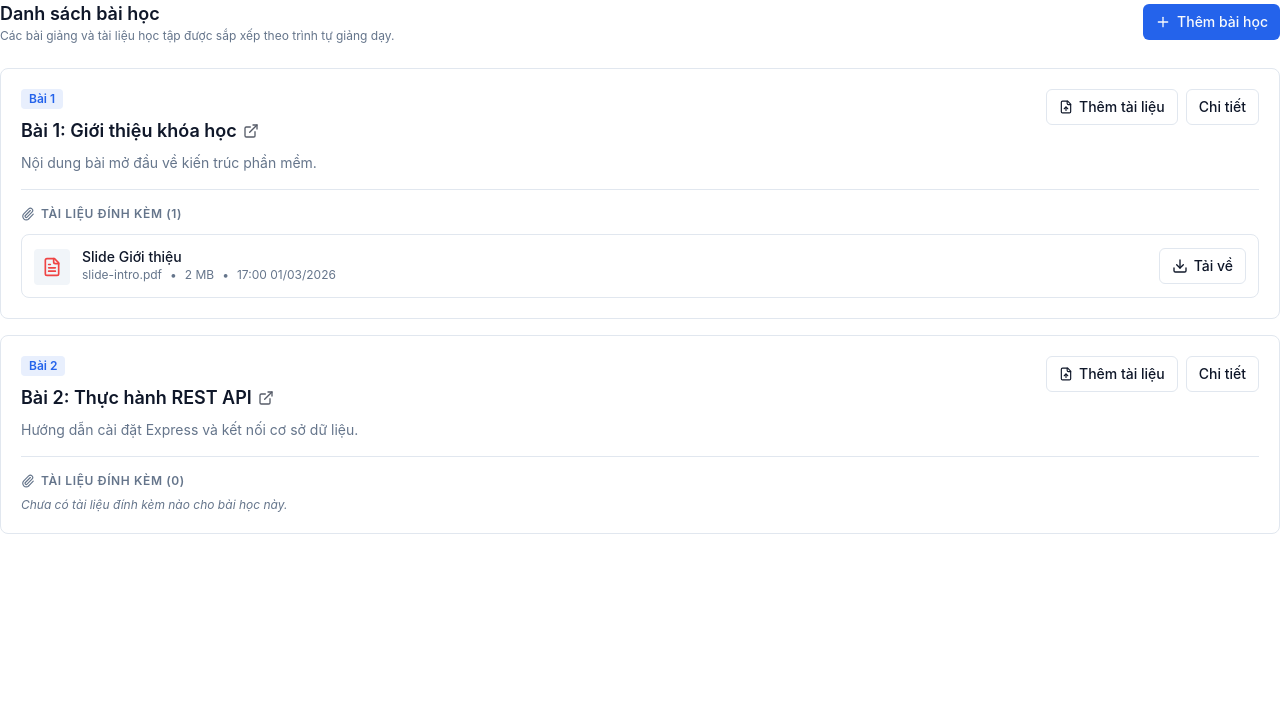
Scenario: LessonTab (US-05, US-06) › handles HTTP errors (401, 403, 409, 422) when creating a lesson
This screenshot has width=1280, height=720.
Check: the text "Bài 1: Giới thiệu khóa học" is shown, box x1=21 y1=117 x2=237 y2=145
Click the button "Thêm bài học" at [1212, 22], box x1=1143 y1=4 x2=1279 y2=40
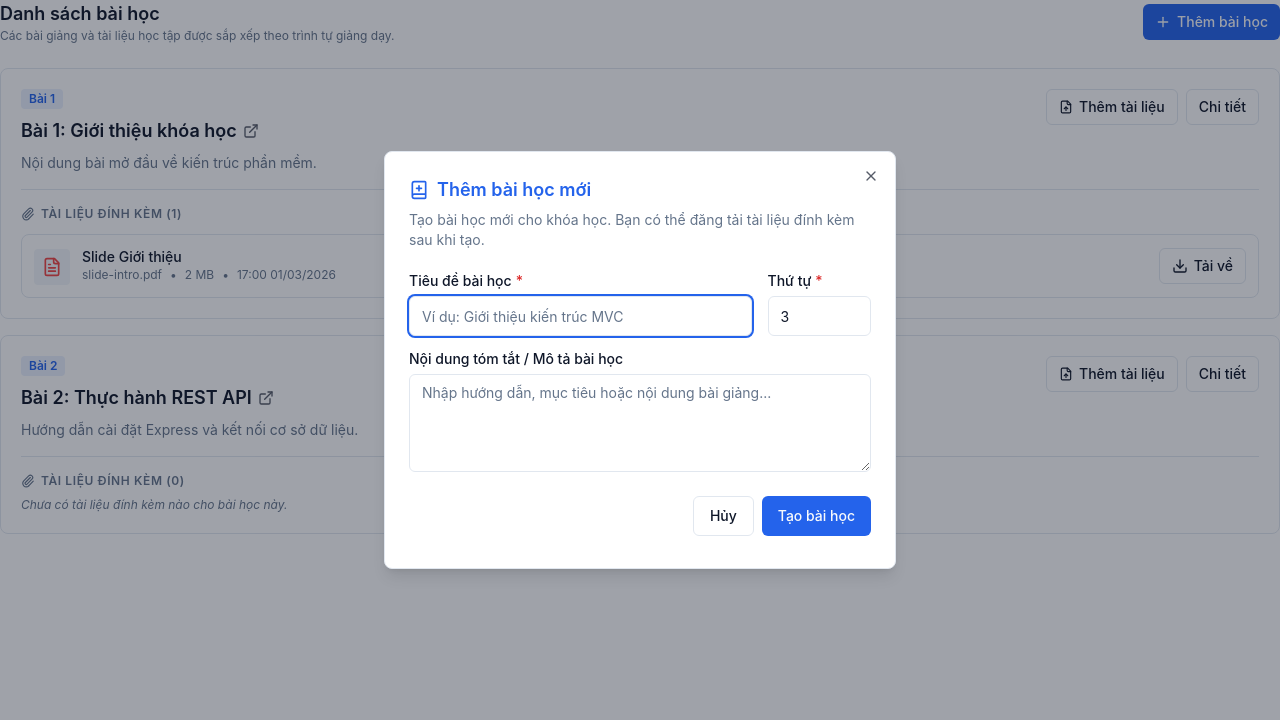
Type "Bài mới" into the field labelled "Tiêu đề bài học*" at [580, 316], box x1=409 y1=296 x2=752 y2=336
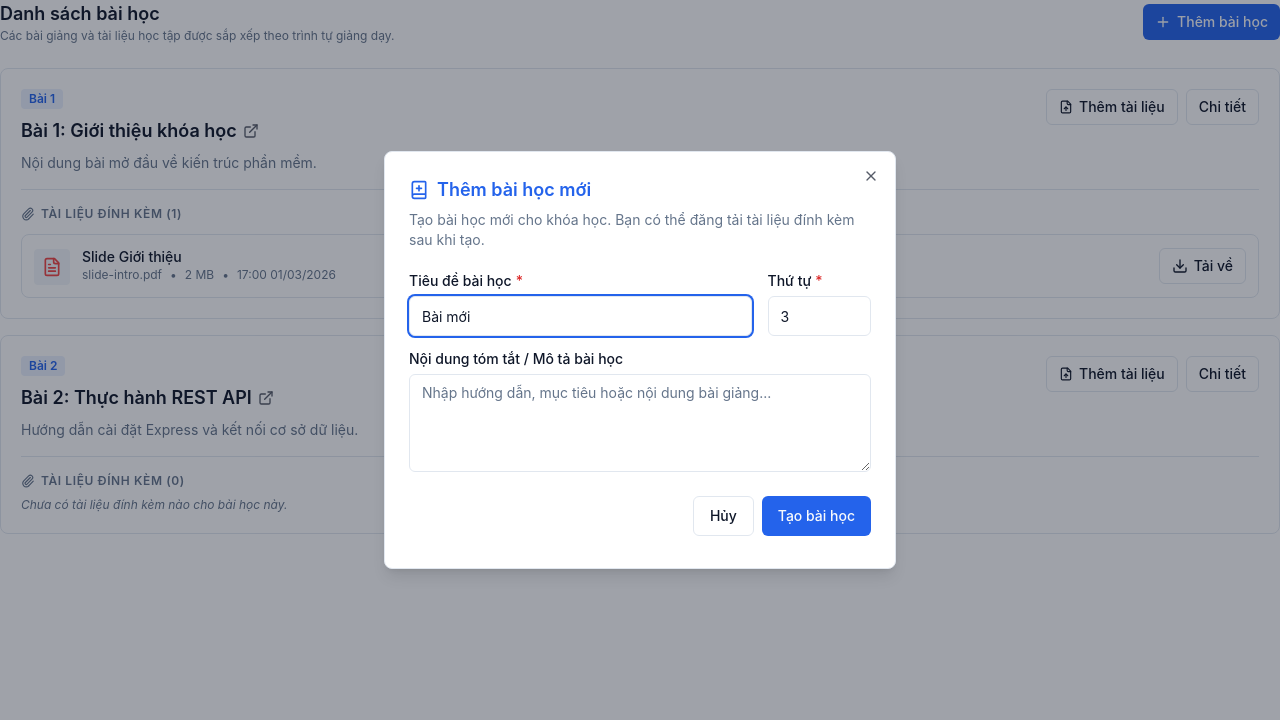
Click the button "Tạo bài học" at [816, 516], box x1=762 y1=496 x2=871 y2=536
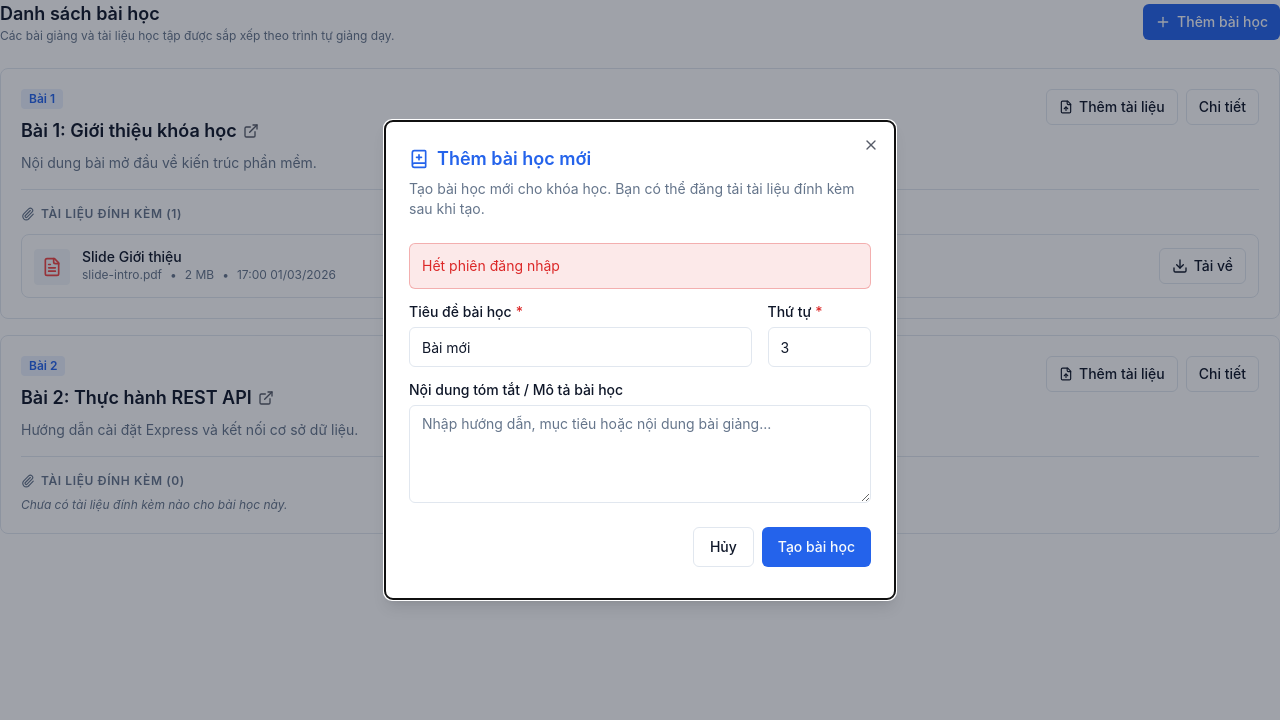
Check: the text "Hết phiên đăng nhập" is shown, box x1=409 y1=243 x2=871 y2=289
Click the button "Tạo bài học" at [816, 547], box x1=762 y1=527 x2=871 y2=567
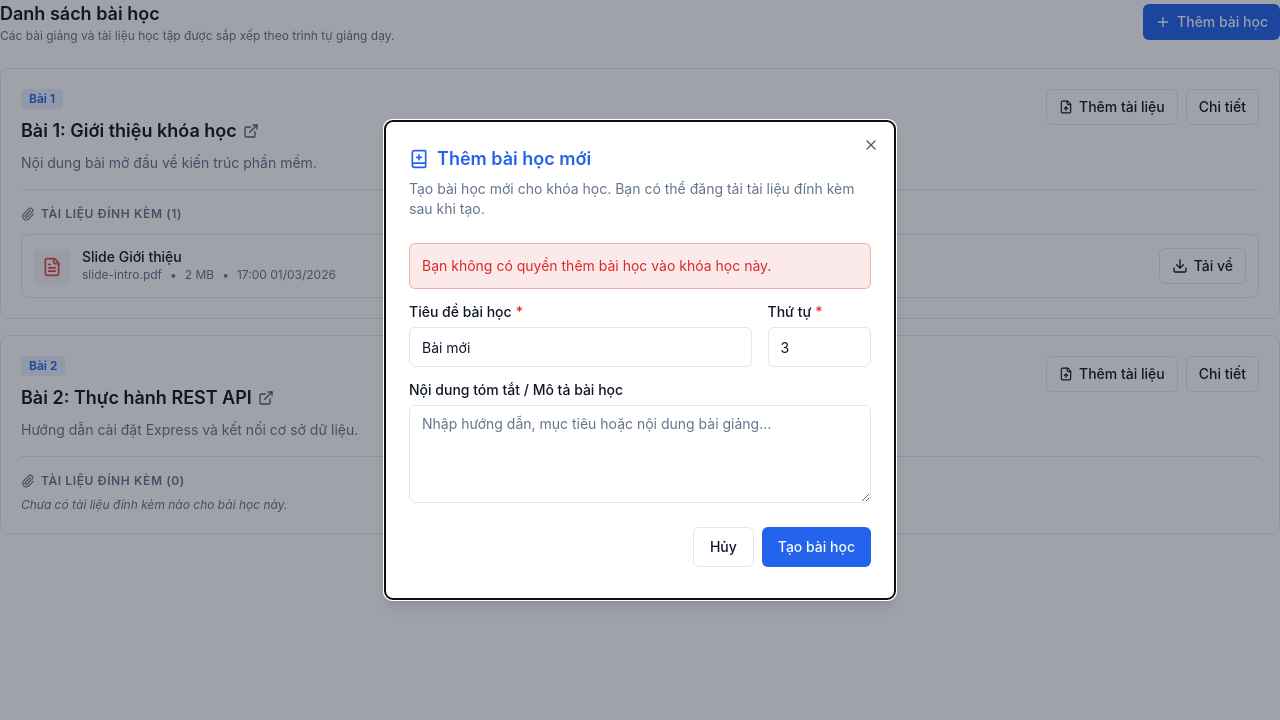
Check: the text "Bạn không có quyền thêm bài học vào khóa học này." is shown, box x1=409 y1=243 x2=871 y2=289
Click the button "Tạo bài học" at [816, 547], box x1=762 y1=527 x2=871 y2=567
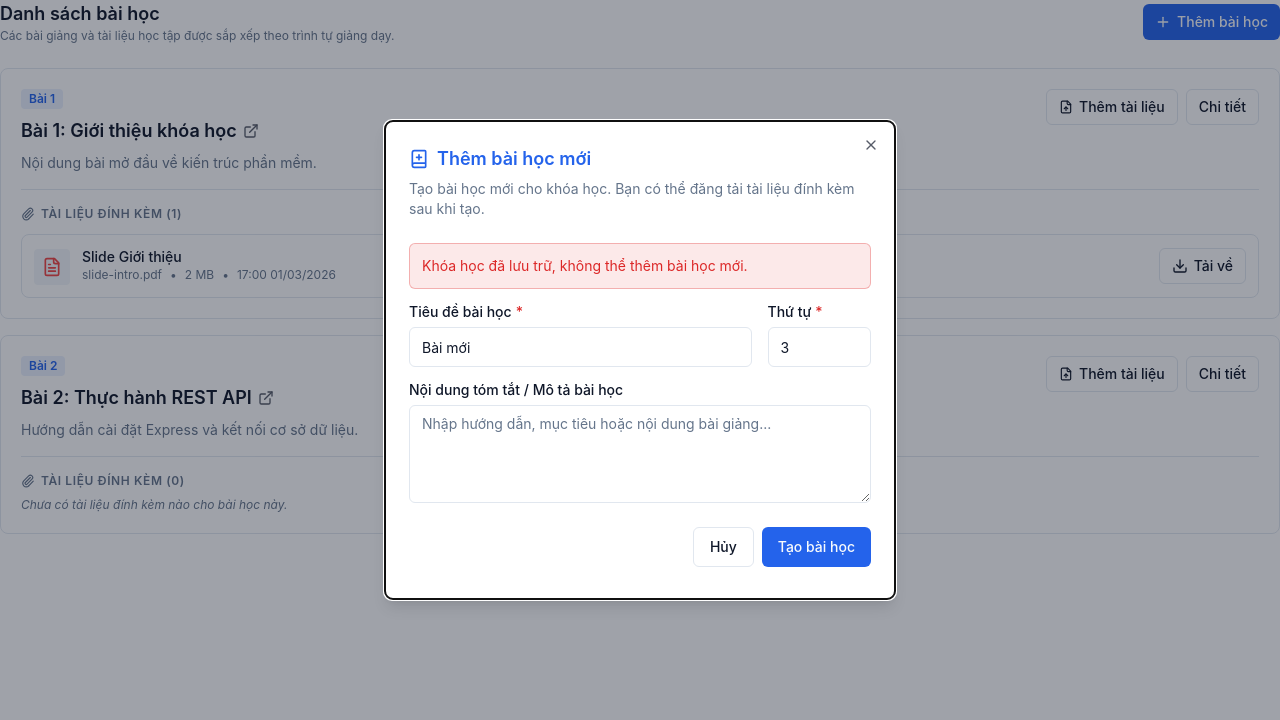
Check: the text "Khóa học đã lưu trữ, không thể thêm bài học mới." is shown, box x1=409 y1=243 x2=871 y2=289
Click the button "Tạo bài học" at [816, 547], box x1=762 y1=527 x2=871 y2=567
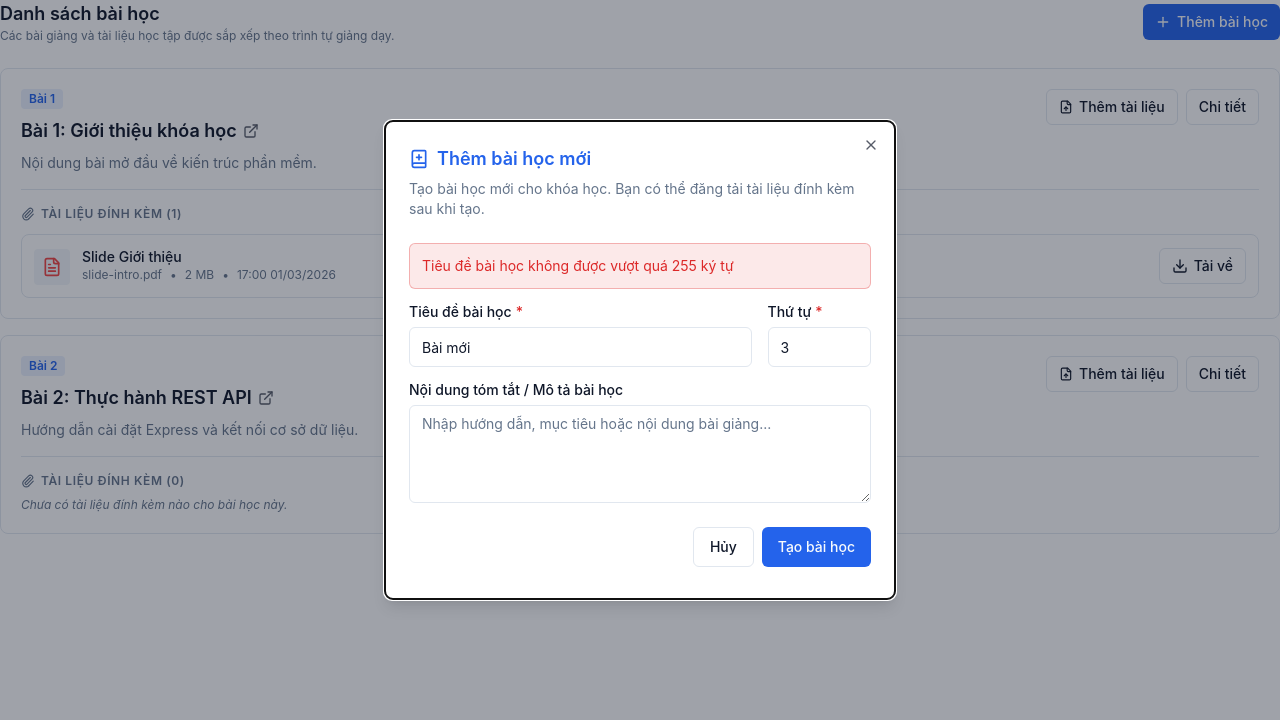
Check: the text "Tiêu đề bài học không được vượt quá 255 ký tự" is shown, box x1=409 y1=243 x2=871 y2=289
